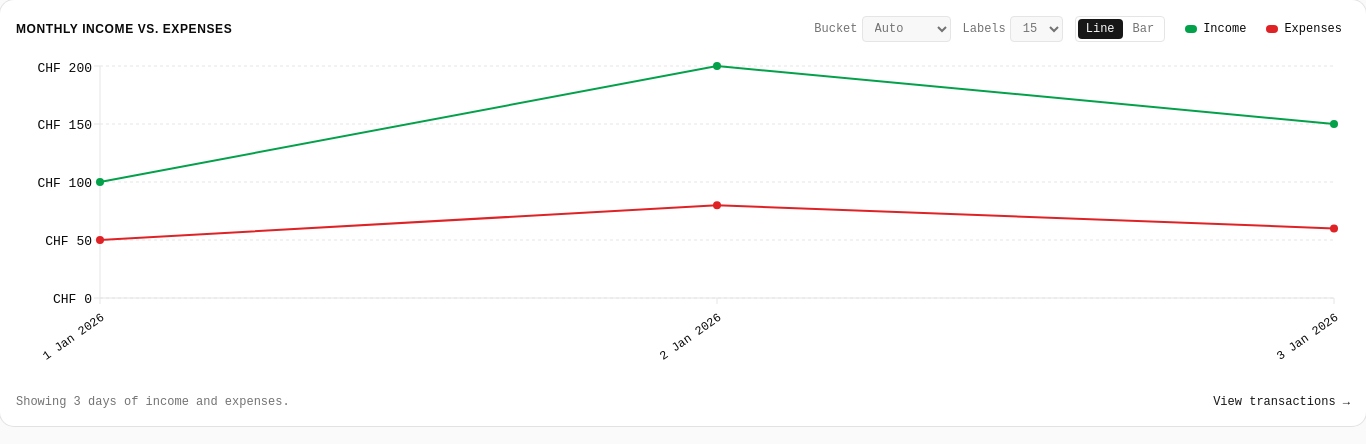
Test: SpendingTrendChart › changing granularity to Month collapses 3 daily points into 1 monthly bucket
Expected: the text "Showing 3 days of income and expenses." is shown, [16,394,290,410]
Step 1. Select "Month" in the dropdown named "Granularity" → [906, 29], box [862,16,950,42]
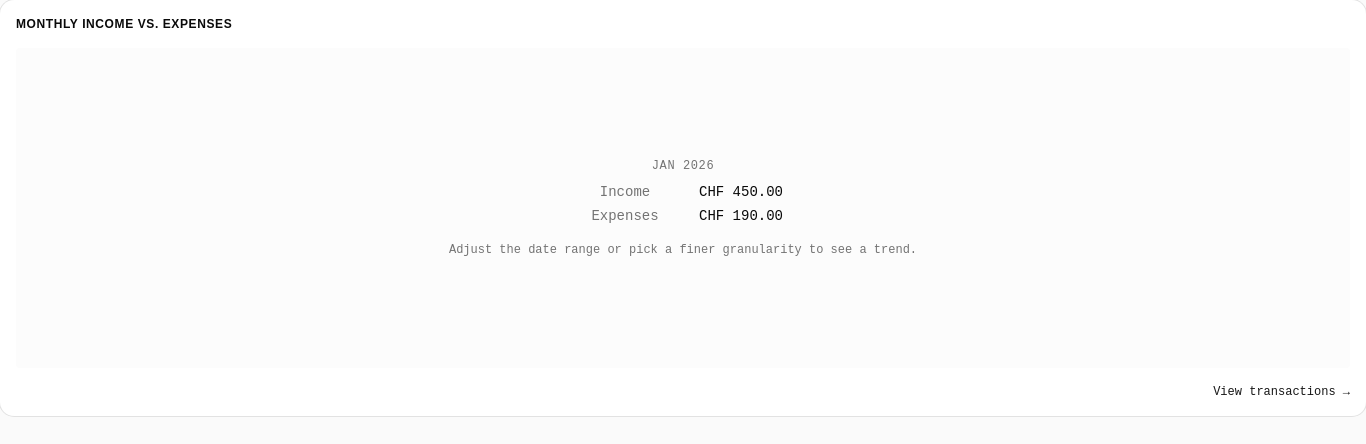
Now the text "Adjust the date range or pick a finer granularity to see a trend." is shown, box [449,242,917,258]
